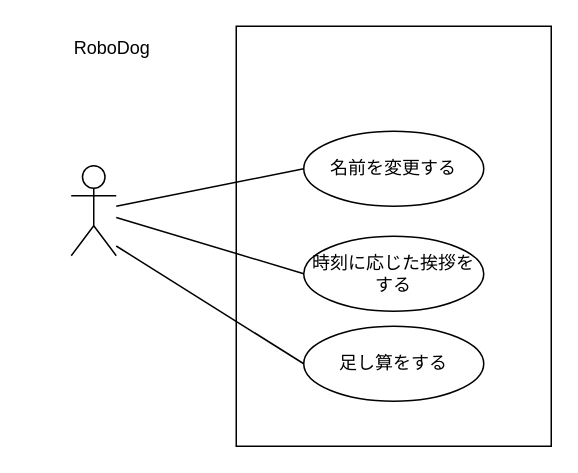
Some shapes in this 578 by 473 pixel diagram are drawn without their labels. The box of each missing label's shape, as (x1, y1, x2, y2) in pixels:
システム内部: (235, 25, 551, 446)
ユーザ: (70, 164, 116, 256)
